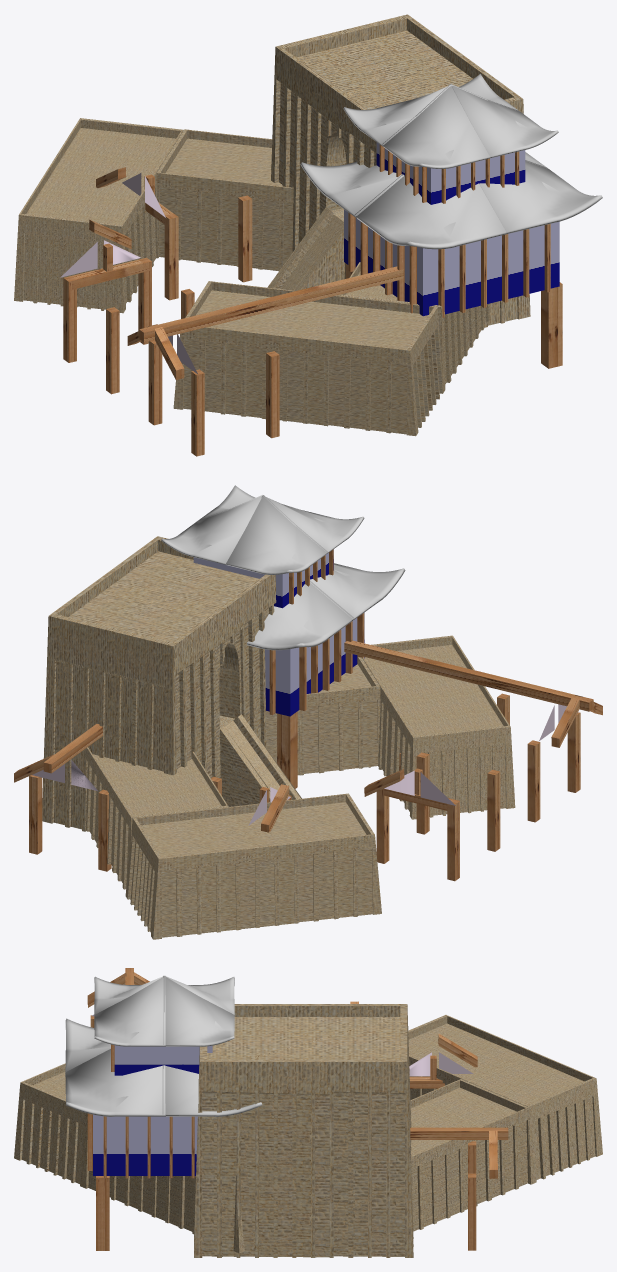
Rendered from Sumeria_TownCenter.fbx.
3 renders of one model, top to bottom at view 1: azimuth 30°, elevation 25°; view 2: azimuth 150°, elevation 25°; view 3: azimuth 270°, elevation 25°, orthographic. The views are drawn at different scales.
Parts seen in each view (by area): view 1: base1_002, base3, base1_004, base1_003, SostreGran, SostrePetit_001, Cube, columnes, bigaSostre, Cube_002, base1, Cube_001 (+9 smaller); view 2: base3, base1_004, base1_002, SostrePetit_001, base1_003, base1, SostreGran, columnes, Cube_002, bigaSostre, Cube, columnaAltellGran_000 (+10 smaller); view 3: base3, base1_004, base1_003, SostrePetit_001, SostreGran, base1_002, Cube, base1, Cube_001, columnaAltellGran_001, bigaSostre_002, columnesCentrals (+5 smaller).
Part boxes in pixels (x1,y1,x2,y2): base1_002: (173,281,444,436); base3: (271,14,530,327); base1_004: (14,118,183,313); base1_003: (156,129,293,271); SostreGran: (300,152,602,249); SostrePetit_001: (343,74,558,168); Cube: (344,209,559,316); columnes: (63,257,279,456); bigaSostre: (139,266,403,342); Cube_002: (267,207,344,295); base1: (338,262,489,393); Cube_001: (376,142,525,204); base3: (42,536,276,831); base1_004: (125,793,381,939); base1_002: (362,635,515,819); SostrePetit_001: (161,485,364,574); base1_003: (85,747,228,899); base1: (266,657,380,775); SostreGran: (246,563,405,650); columnes: (376,693,580,881); Cube_002: (219,714,301,806); bigaSostre: (344,640,593,711); Cube: (265,612,364,716); columnaAltellGran_000: (299,613,364,710); base3: (194,1004,413,1257); base1_004: (408,1015,602,1184); base1_003: (410,1079,531,1231); SostrePetit_001: (94,975,234,1046); SostreGran: (65,1018,262,1116); base1_002: (14,1063,85,1188); Cube: (93,1114,197,1175); base1: (80,1113,244,1253); Cube_001: (114,1045,212,1075); columnaAltellGran_001: (103,1116,194,1178); bigaSostre_002: (410,1127,508,1139); columnesCentrals: (96,1176,109,1250).
Size of the model in its own units: 12.52 by 7.68 by 16.64.
